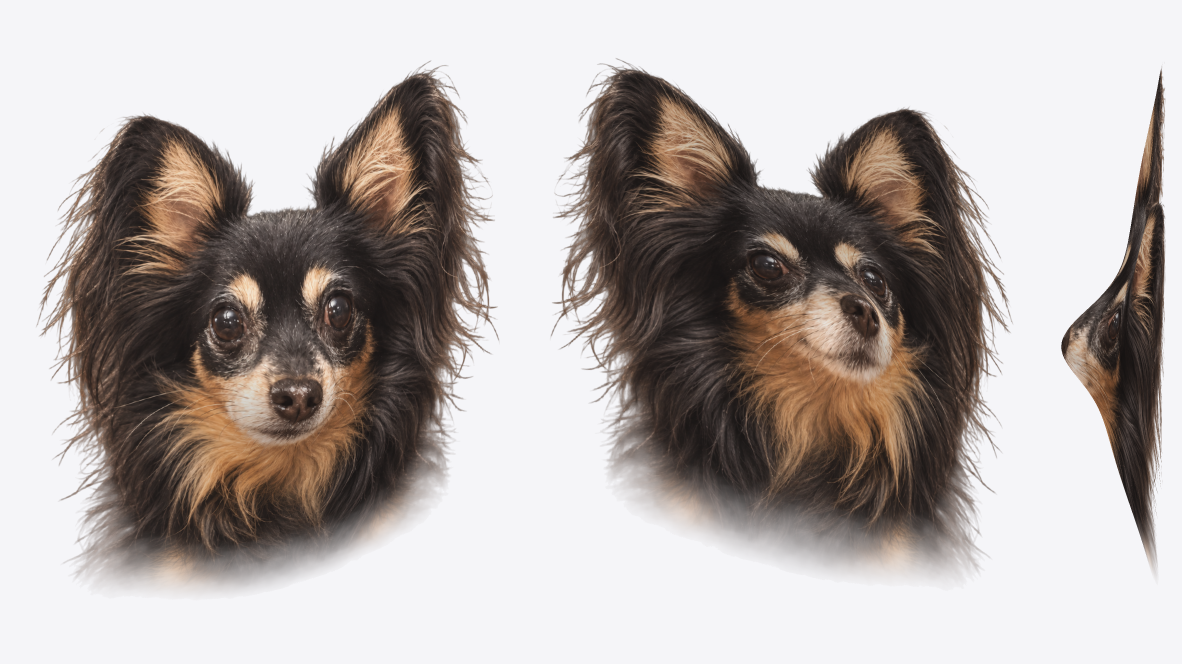
Rendered from emma-relief.glb.
3 renders of one model, left to right at view 1: azimuth 30°, elevation 25°; view 2: azimuth 150°, elevation 25°; view 3: azimuth 270°, elevation 25°, orthographic. The views are drawn at different scales.
Visible parts, largest first — view 1: EmmaPortraitRelief; view 2: EmmaPortraitRelief; view 3: EmmaPortraitRelief.
Boxes of the visible parts, x1,y1,x2,y2 form: EmmaPortraitRelief: (36,61,498,589); EmmaPortraitRelief: (551,58,1012,576); EmmaPortraitRelief: (1061,68,1165,572).
Bounding box in the file's own units: 2 × 2 × 0.444.
1 material, 1 textured.
